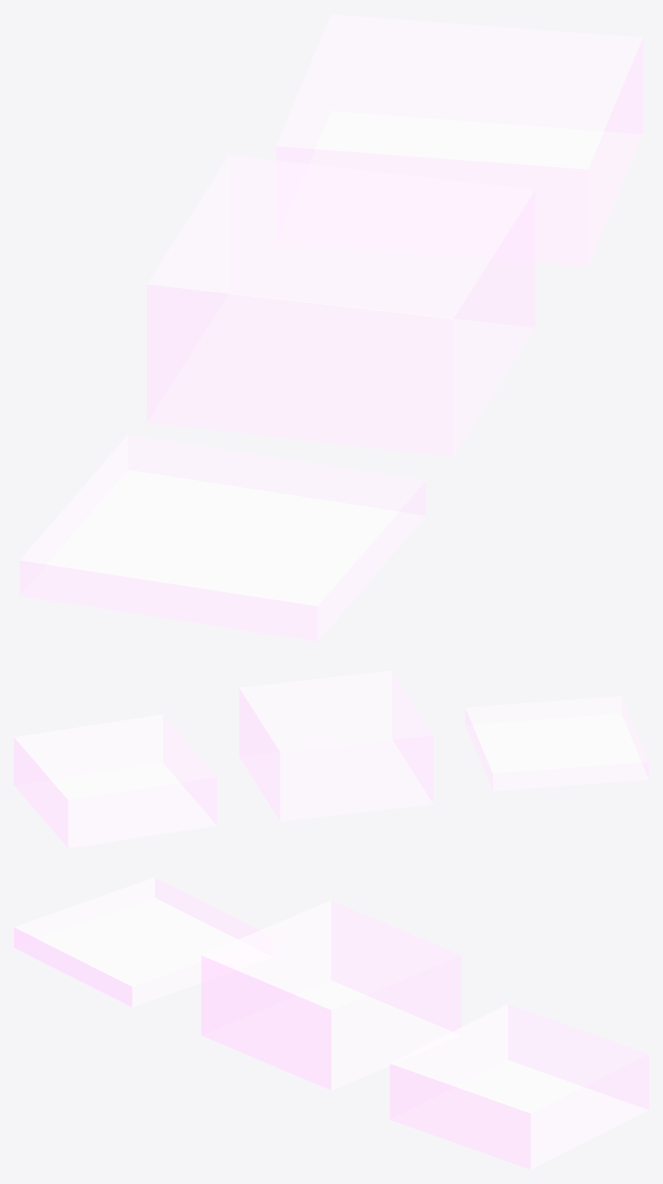
The model's file is Podiums.glb.
3 renders of one model, top to bottom at view 1: azimuth 30°, elevation 25°; view 2: azimuth 150°, elevation 25°; view 3: azimuth 270°, elevation 25°, orthographic. The views are drawn at different scales.
Parts seen in each view (by area): view 1: debug_view; view 2: debug_view; view 3: debug_view.
Part boxes in pixels (x1,y1,x2,y2): debug_view: (19, 14, 643, 641); debug_view: (14, 670, 648, 848); debug_view: (14, 877, 648, 1169).
Bounding box in the file's own units: 5.38 × 0.75 × 5.38.
